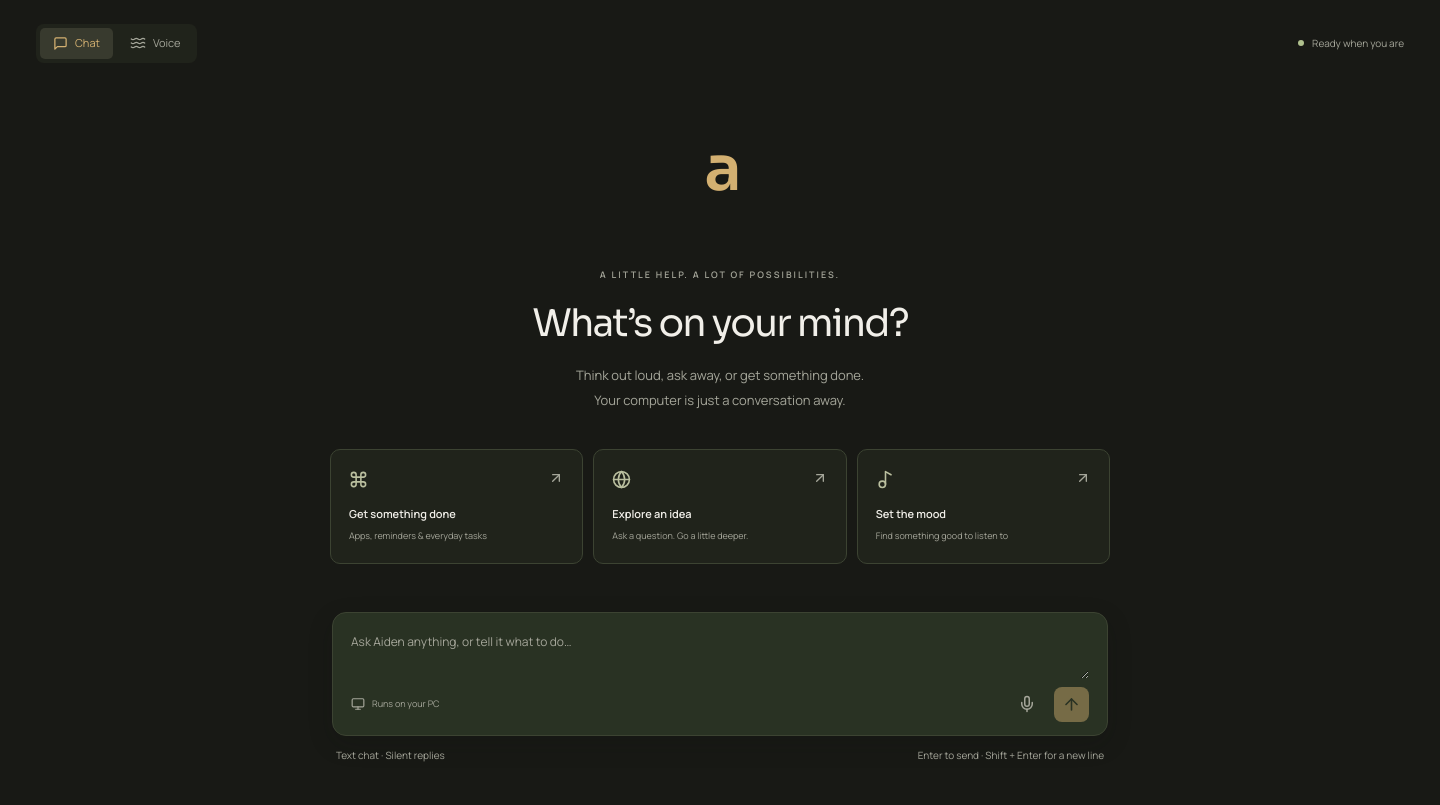
Test: unsupported device microphone does not silently activate the PC microphone
The width and height of the screenshot is (1440, 805).
Click the button named "Use microphone": (1027, 704) [1008, 685, 1046, 723]
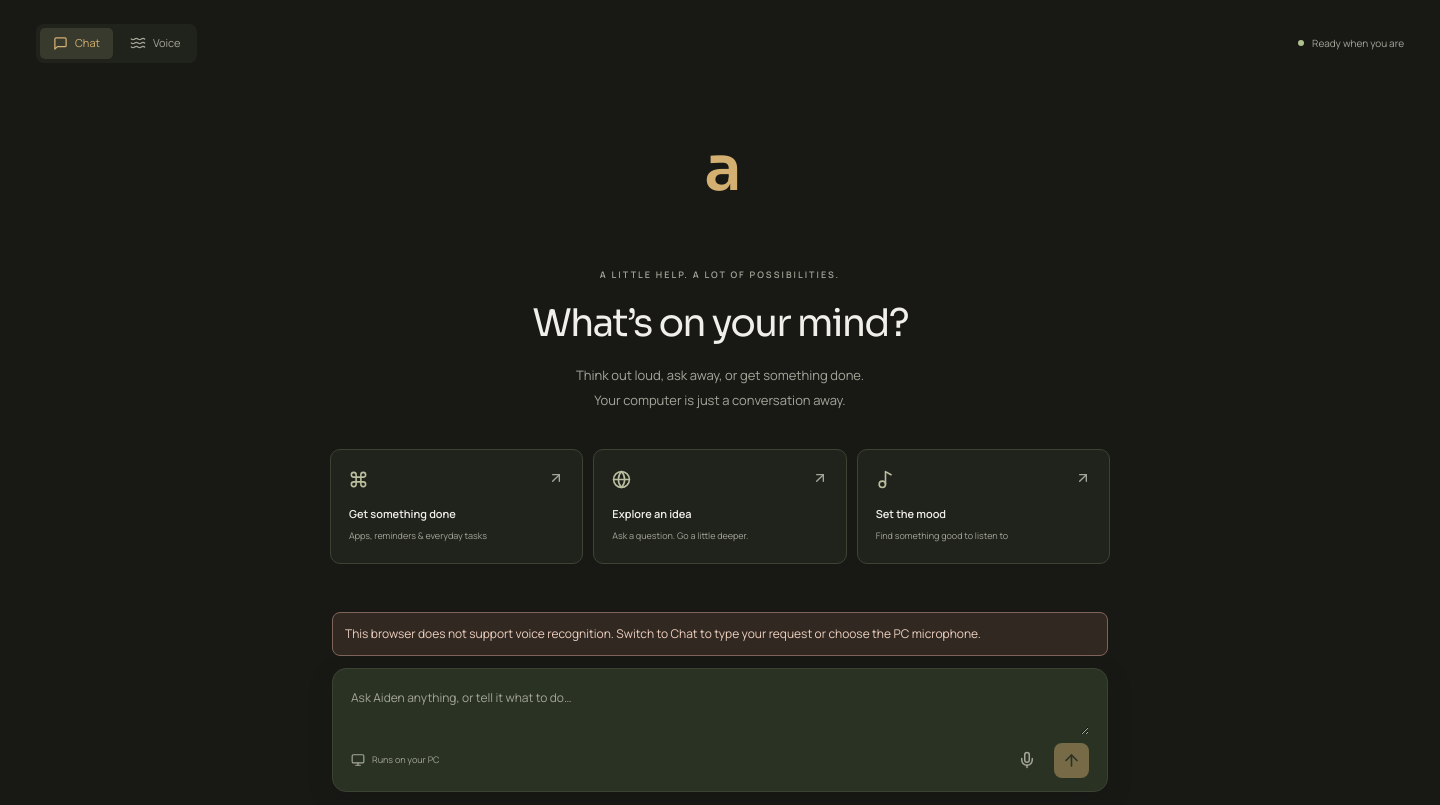
Result: the 2nd message shows "does not support voice recognition" at [345, 625, 981, 642]
